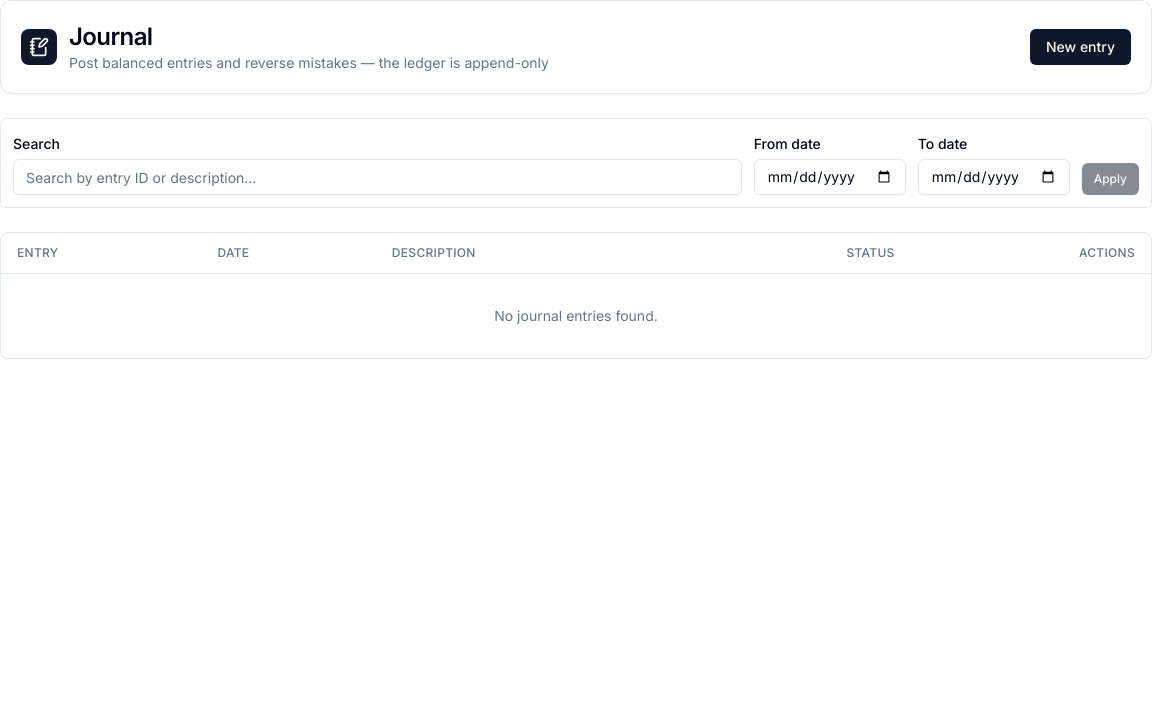
Test: JournalView — live balance validation (ACC-1/ACC-4) › enables Post only when balanced with at least two lines
The image size is (1152, 720).
Click the button "New entry" at (1080, 47), box [1030,29,1131,65]
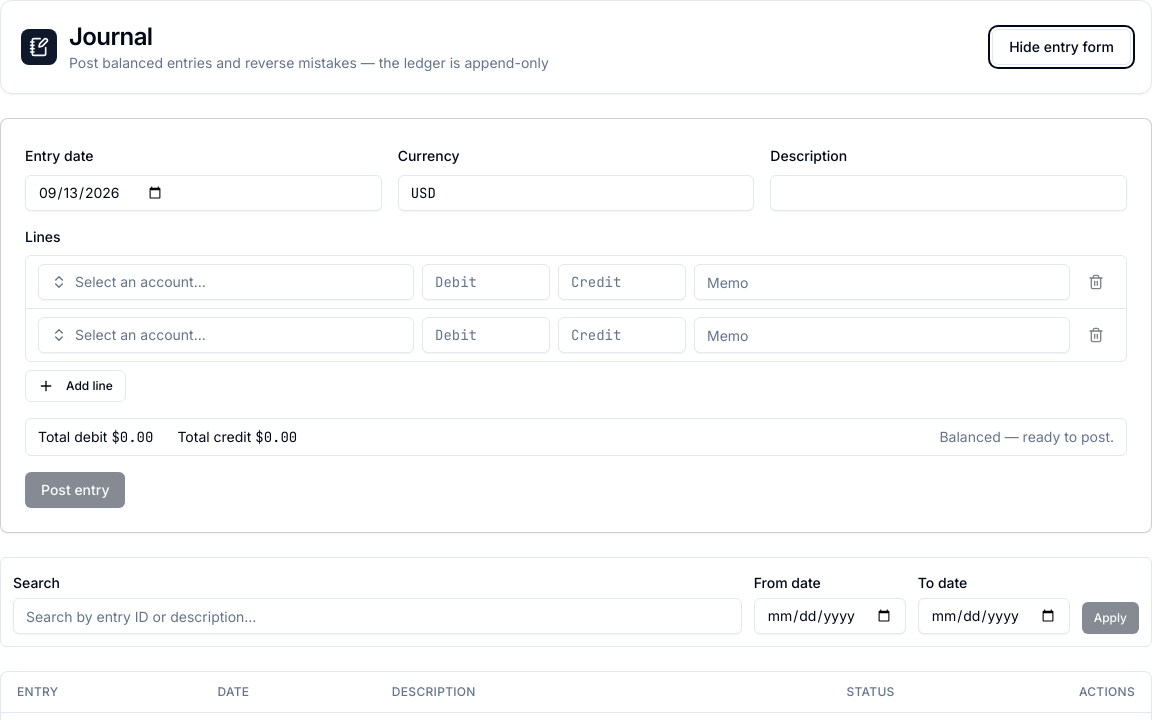
Type "100" into the 1st field labelled "Debit" at (486, 282), box [422,264,550,300]
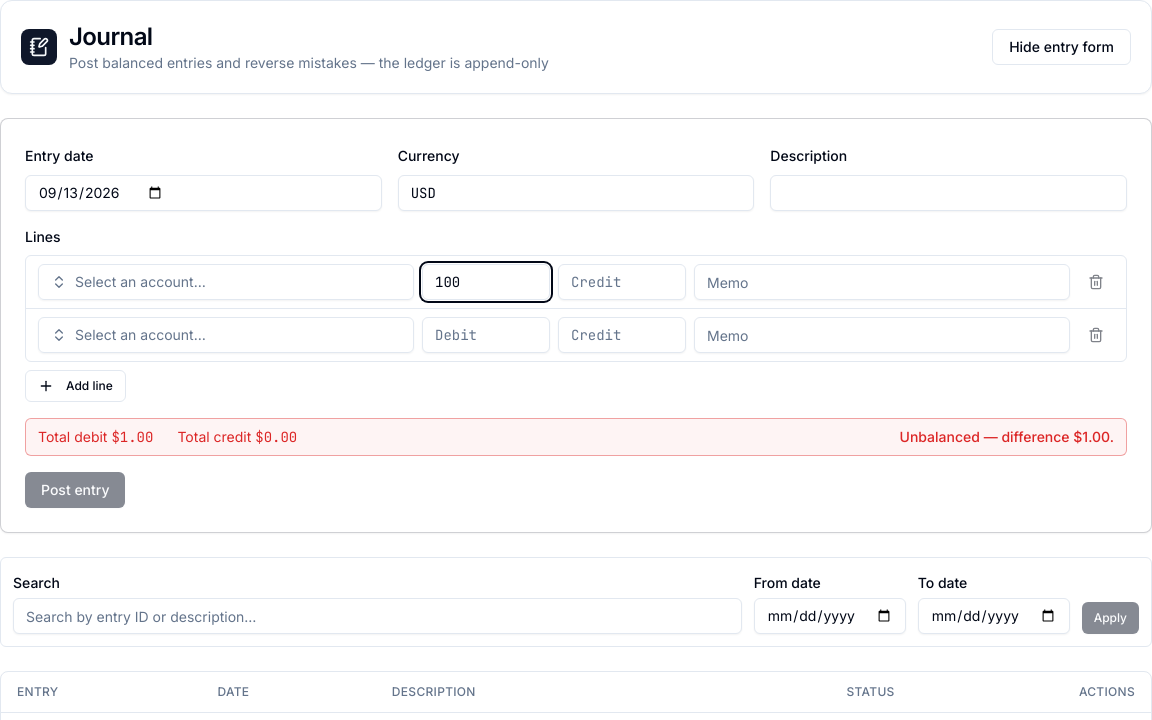
Type "100" into the 2nd field labelled "Credit" at (622, 335), box [558,317,686,353]
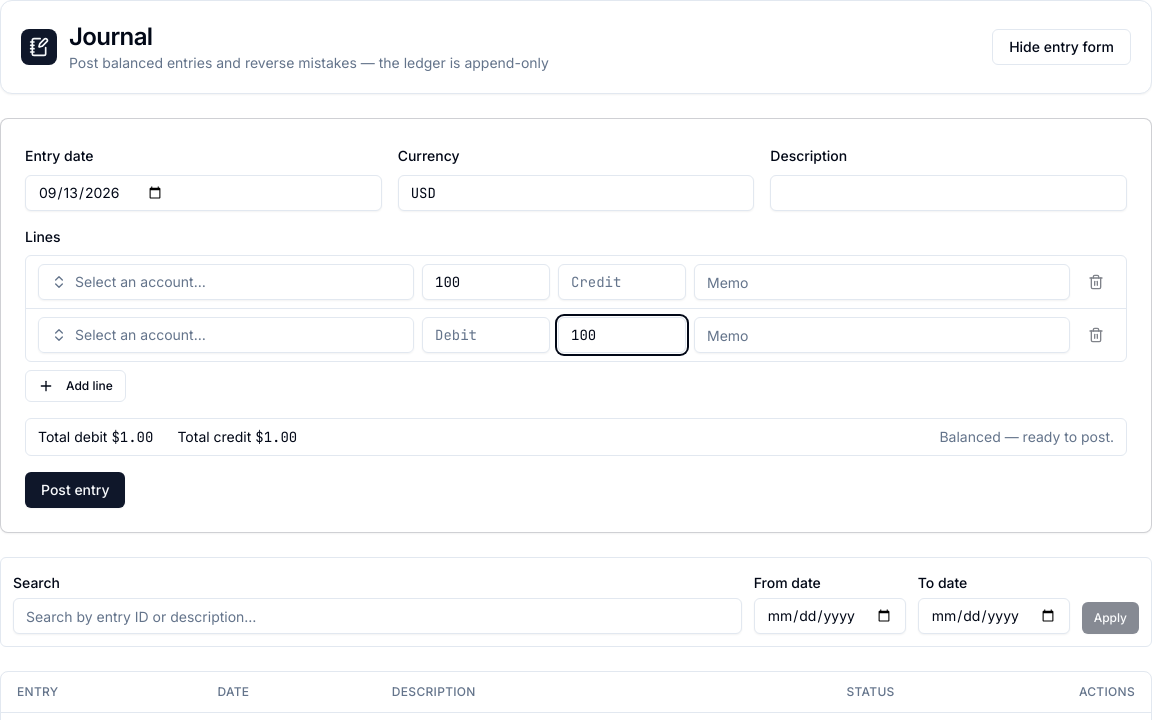
Expected: the button "Post entry" is enabled, [25,472,126,508]
Expected: the text "Balanced — ready to post." is shown, [940,427,1114,447]
